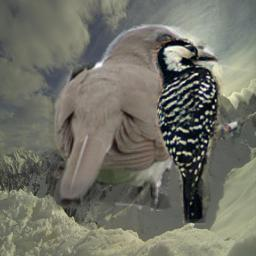Cuckoo: (47, 24, 218, 211)
Woodpecker: (151, 34, 250, 225)
